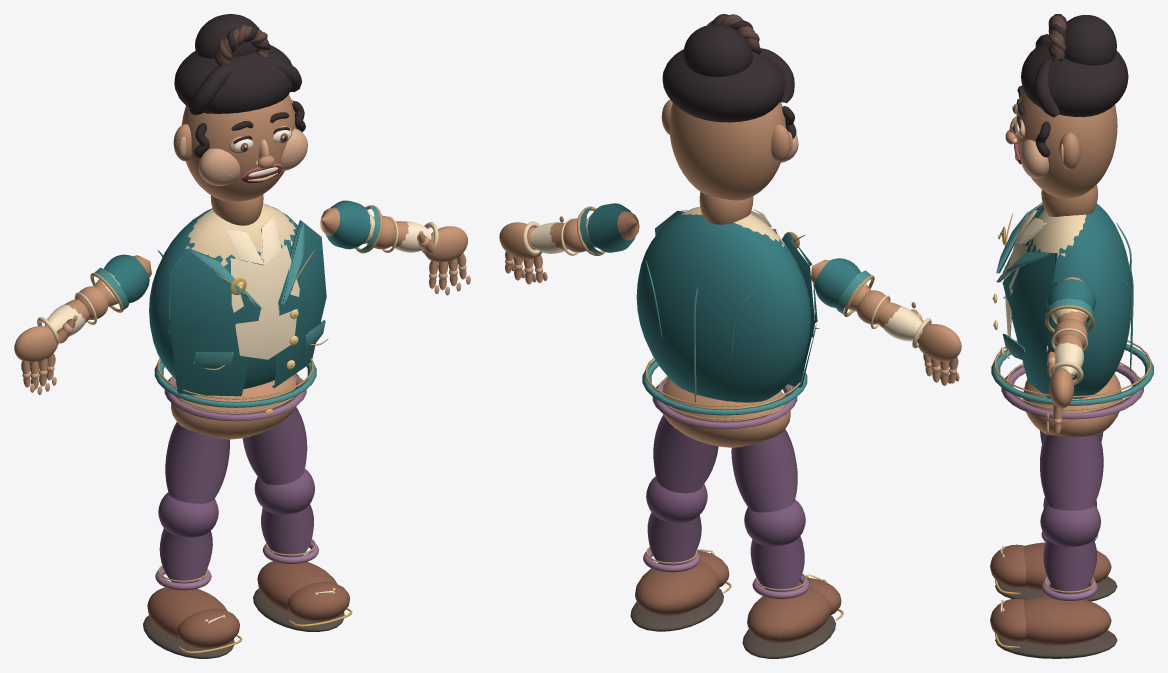
3 renders of one model, left to right at view 1: azimuth 30°, elevation 25°; view 2: azimuth 150°, elevation 25°; view 3: azimuth 270°, elevation 25°, orthographic.
Visible parts, largest first — view 1: Coat pieces, Skin pieces, Trouser pieces, Hair pieces, Boot pieces, Blouse2 pieces, Coat2 pieces, Blouse pieces, Skin2 pieces, Sole pieces, Trouser2 pieces, Thread pieces (+1 smaller); view 2: Coat pieces, Skin pieces, Trouser pieces, Hair pieces, Boot pieces, Sole pieces, Coat2 pieces, Trouser2 pieces, Blouse2 pieces, Thread pieces, Blouse pieces, Skin2 pieces; view 3: Coat pieces, Skin pieces, Trouser pieces, Hair pieces, Boot pieces, Coat2 pieces, Sole pieces, Blouse pieces, Trouser2 pieces, Blouse2 pieces, Thread pieces, Skin2 pieces (+2 smaller).
Part boxes in pixels (left/top/right/bottom): Coat pieces: left=103, top=200, right=371, bottom=396; Skin pieces: left=14, top=94, right=467, bottom=439; Trouser pieces: left=158, top=407, right=314, bottom=583; Hair pieces: left=174, top=14, right=305, bottom=157; Boot pieces: left=147, top=561, right=349, bottom=648; Blouse2 pieces: left=44, top=218, right=431, bottom=624; Coat2 pieces: left=94, top=205, right=380, bottom=407; Blouse pieces: left=37, top=203, right=438, bottom=344; Skin2 pieces: left=22, top=126, right=470, bottom=394; Sole pieces: left=143, top=588, right=344, bottom=658; Trouser2 pieces: left=155, top=374, right=318, bottom=590; Thread pieces: left=90, top=205, right=382, bottom=581; Coat pieces: left=587, top=203, right=860, bottom=402; Skin pieces: left=499, top=99, right=961, bottom=447; Trouser pieces: left=646, top=415, right=805, bottom=591; Hair pieces: left=662, top=14, right=796, bottom=138; Boot pieces: left=635, top=550, right=841, bottom=643; Sole pieces: left=630, top=588, right=835, bottom=658; Coat2 pieces: left=579, top=207, right=870, bottom=415; Trouser2 pieces: left=643, top=377, right=809, bottom=598; Blouse2 pieces: left=530, top=209, right=922, bottom=580; Thread pieces: left=577, top=206, right=874, bottom=590; Blouse pieces: left=522, top=206, right=931, bottom=348; Skin2 pieces: left=505, top=131, right=959, bottom=383; Coat pieces: left=1002, top=203, right=1132, bottom=399; Skin pieces: left=1005, top=89, right=1122, bottom=437; Trouser pieces: left=1040, top=430, right=1103, bottom=593; Hair pieces: left=1017, top=14, right=1128, bottom=157; Boot pieces: left=990, top=542, right=1111, bottom=645; Coat2 pieces: left=991, top=204, right=1153, bottom=405; Sole pieces: left=995, top=576, right=1117, bottom=658; Blouse pieces: left=1028, top=209, right=1087, bottom=385; Trouser2 pieces: left=1001, top=364, right=1143, bottom=600; Blouse2 pieces: left=1000, top=202, right=1083, bottom=612; Thread pieces: left=994, top=213, right=1151, bottom=592; Skin2 pieces: left=1009, top=116, right=1063, bottom=434.
Bounding box in the file's own units: 1.05 × 1.34 × 0.3291.
